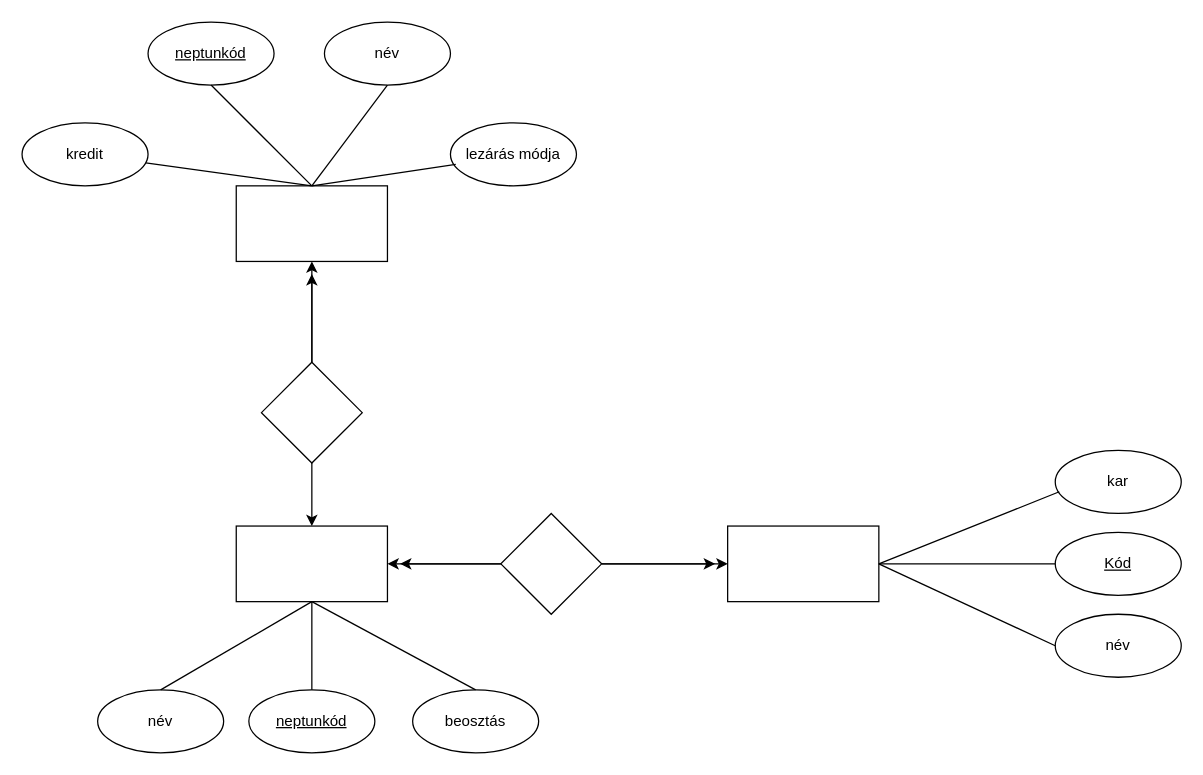
The diagram is 1203 pixels wide and 775 high, and some of its shapes have lost their labels. The box of each missing label's shape, as (x1, y1, x2, y2) in pixels:
Oktató: (235, 525, 387, 602)
Tanszék: (726, 525, 879, 602)
Tantárgy: (235, 185, 387, 261)
